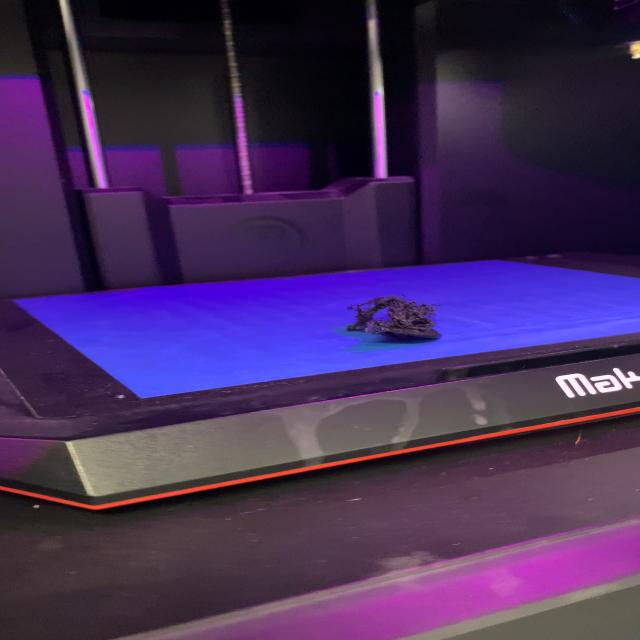spaghetti: (345, 294, 441, 341)
